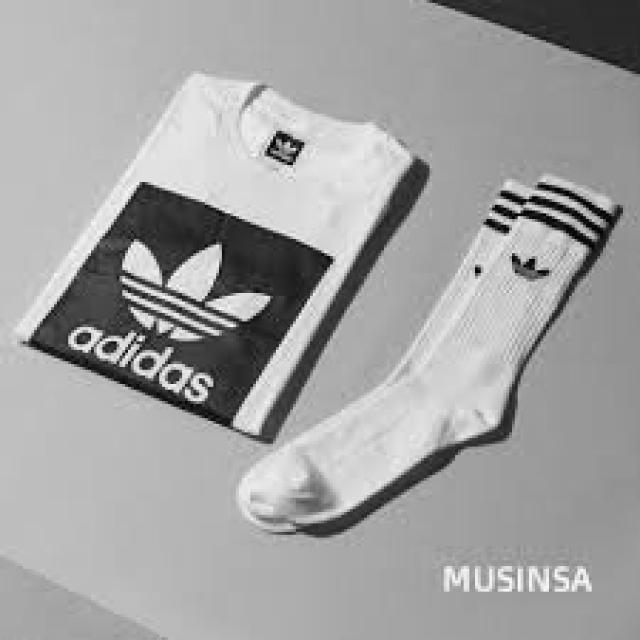Adidas: (114, 230, 274, 346), (504, 245, 558, 290), (268, 128, 308, 170)
